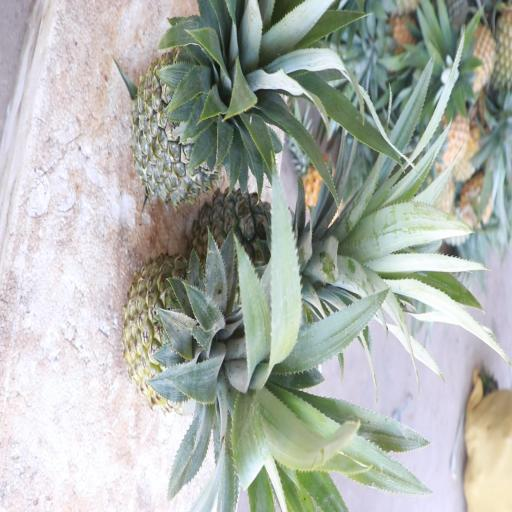------------------------------: (119, 248, 279, 414)
Pineapple - v8 v1: (446, 14, 497, 96), (427, 102, 475, 161)
